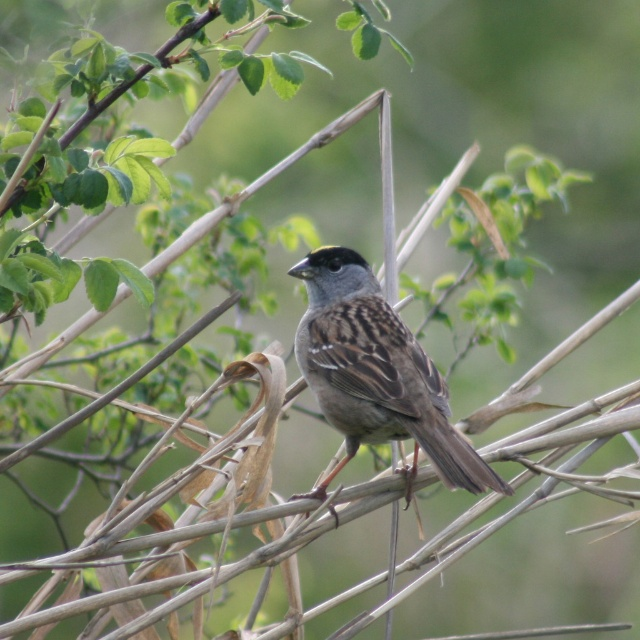Sparrow: (284, 246, 516, 527)
